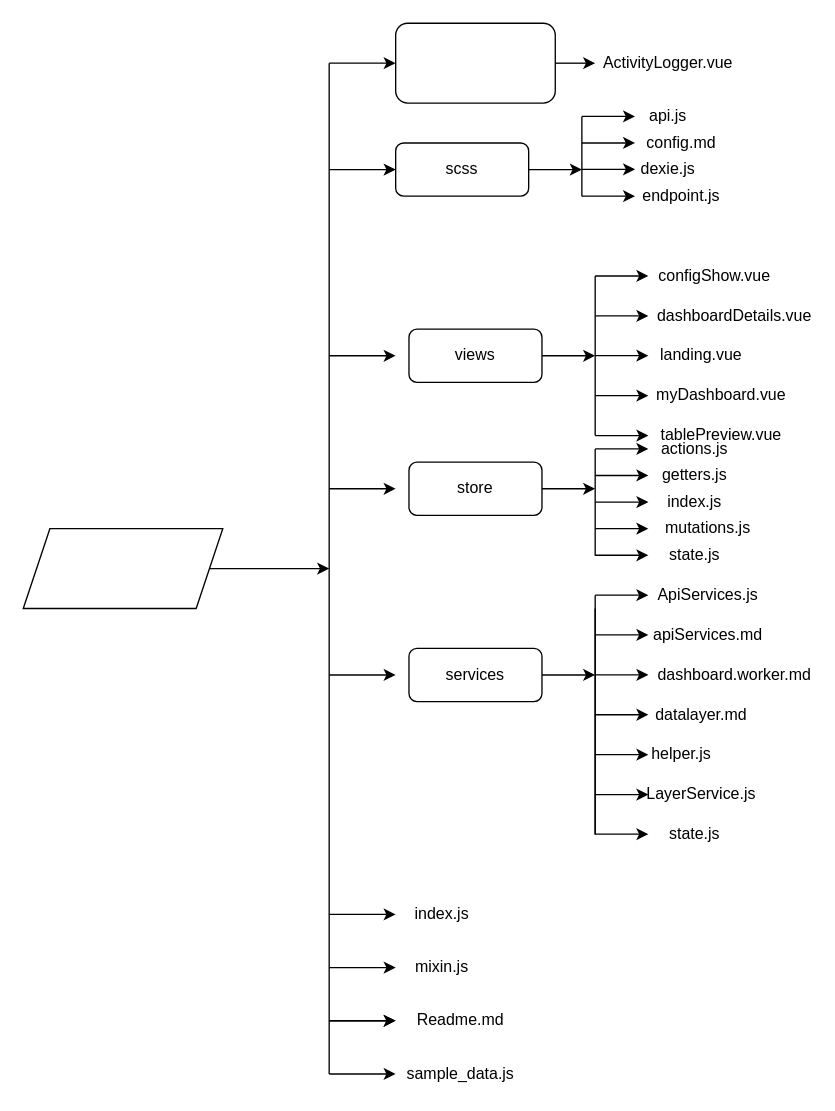
This 835x1111 diagram has some shape labels left out. Here are the shapes that lost their labels. From the top down, the box of each, then its label:
(394, 22, 555, 103): components
(22, 527, 223, 608): DataLayer
